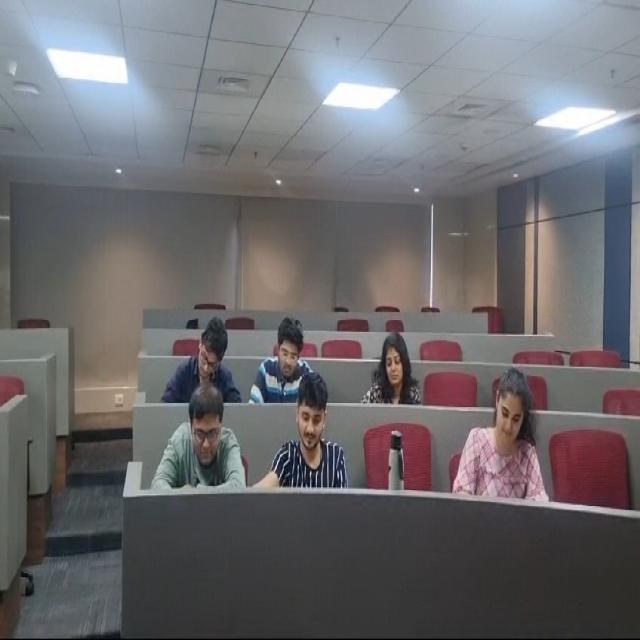cheating: (241, 382, 363, 497), (153, 382, 249, 496)
non-cheating: (463, 376, 554, 515), (171, 317, 241, 398), (261, 310, 327, 394), (362, 325, 427, 396)
